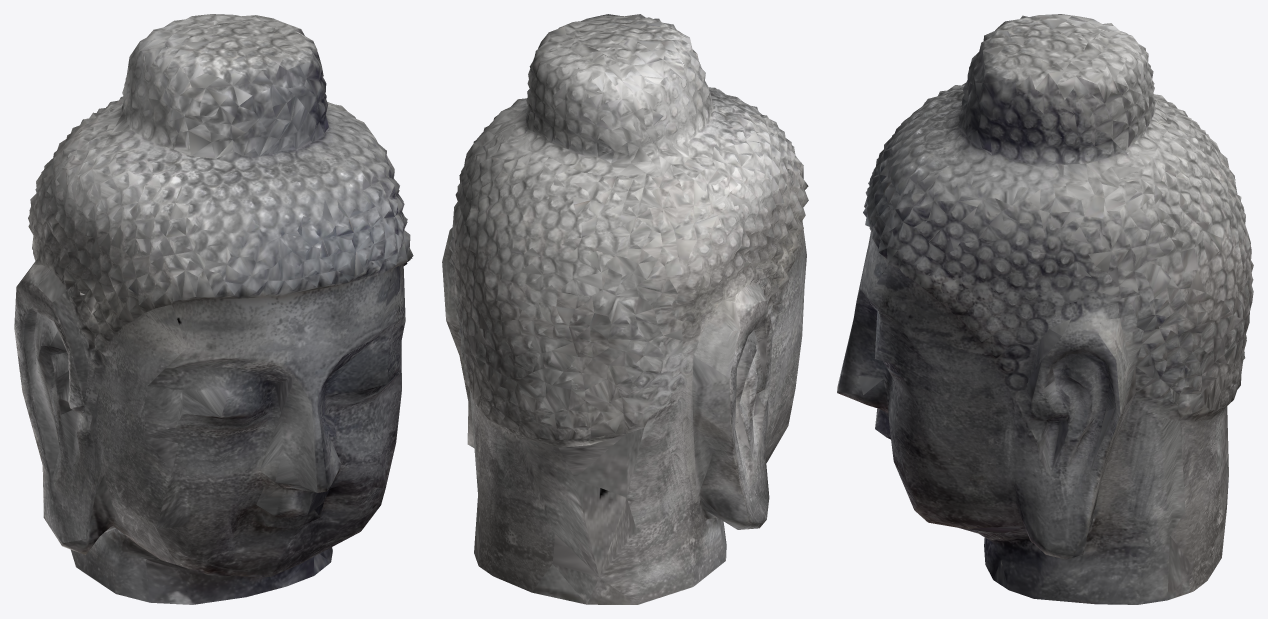
File: statue 4.glb
The picture shows the model from 3 angles, left to right: view 1: azimuth 30°, elevation 25°; view 2: azimuth 150°, elevation 25°; view 3: azimuth 270°, elevation 25°; orthographic projection. The views are drawn at different scales.
Visible parts, largest first — view 1: Buddha; view 2: Buddha; view 3: Buddha.
Boxes of the visible parts, left/top/right/bottom form: Buddha: left=14, top=14, right=413, bottom=604; Buddha: left=442, top=14, right=808, bottom=604; Buddha: left=837, top=14, right=1253, bottom=604.
Size of the model in its own units: 0.316 by 0.4899 by 0.357.
1 material, 1 textured.
